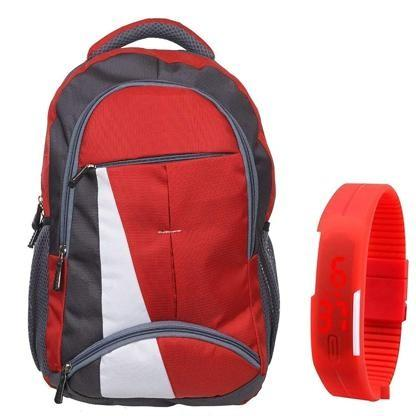not trash: (27, 20, 281, 406), (308, 181, 412, 400)
